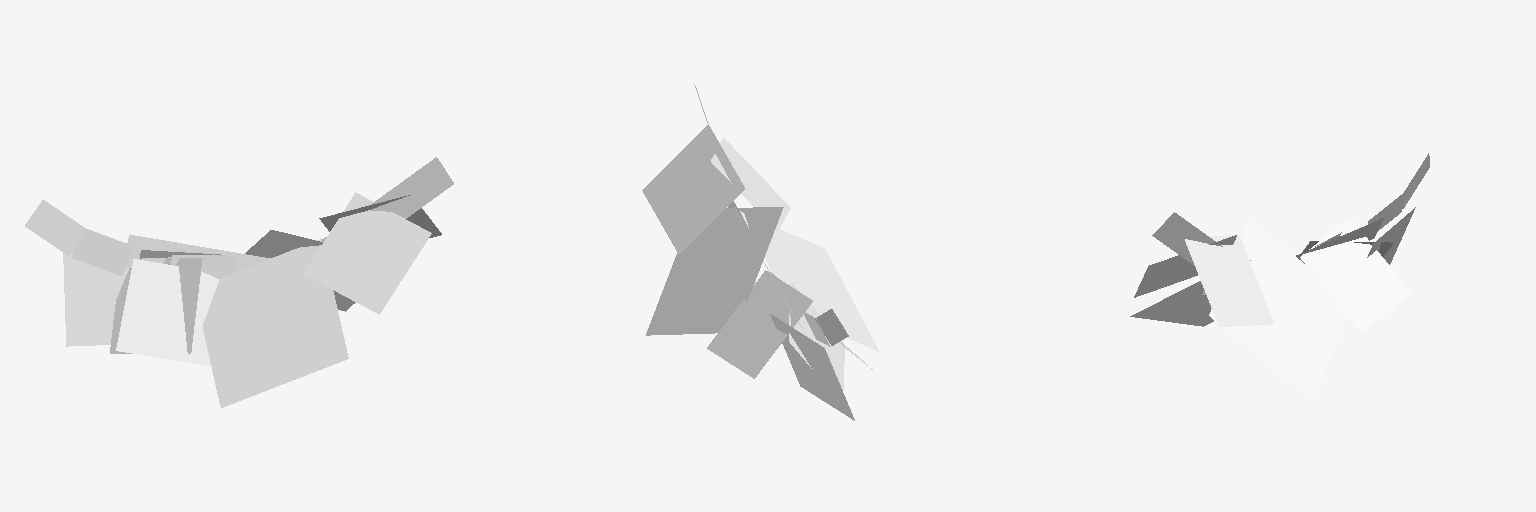
Rendered from spruce_long_branch_corner.obj.
The picture shows the model from 3 angles: view 1: azimuth 30°, elevation 25°; view 2: azimuth 150°, elevation 25°; view 3: azimuth 270°, elevation 25°; orthographic projection.
Parts seen in each view (by area): view 1: cube.033, cube.039, cube.036, cube.035, cube.038, cube.032, cube.030, cube.029, cube.027, cube.037, cube.031, cube.040; view 2: cube.037, cube.040, cube.034, cube.033, cube.035, cube.039, cube.032, cube.030; view 3: cube.037, cube.034, cube.040, cube.033, cube.039, cube.038, cube.035, cube.027.
Part boxes in pixels (left/top/right/bottom): cube.033: left=202, top=239, right=348, bottom=407; cube.039: left=303, top=192, right=431, bottom=314; cube.036: left=116, top=259, right=219, bottom=366; cube.035: left=63, top=250, right=128, bottom=346; cube.038: left=322, top=157, right=453, bottom=241; cube.032: left=110, top=258, right=202, bottom=353; cube.030: left=25, top=200, right=84, bottom=255; cube.029: left=72, top=228, right=132, bottom=275; cube.027: left=126, top=235, right=270, bottom=271; cube.037: left=245, top=230, right=355, bottom=311; cube.031: left=171, top=248, right=236, bottom=278; cube.040: left=319, top=195, right=441, bottom=237; cube.037: left=646, top=207, right=783, bottom=335; cube.040: left=642, top=124, right=744, bottom=254; cube.034: left=707, top=270, right=812, bottom=378; cube.033: left=740, top=211, right=878, bottom=351; cube.035: left=770, top=314, right=854, bottom=420; cube.039: left=711, top=137, right=790, bottom=231; cube.032: left=789, top=281, right=844, bottom=390; cube.030: left=815, top=309, right=848, bottom=345; cube.037: left=1209, top=218, right=1346, bottom=400; cube.034: left=1300, top=217, right=1411, bottom=332; cube.040: left=1185, top=235, right=1273, bottom=326; cube.033: left=1130, top=260, right=1250, bottom=326; cube.039: left=1134, top=235, right=1236, bottom=297; cube.038: left=1152, top=212, right=1222, bottom=265; cube.035: left=1367, top=207, right=1415, bottom=264; cube.027: left=1296, top=218, right=1383, bottom=263.
Size of the model in its own units: 2.07 by 1.35 by 1.72.